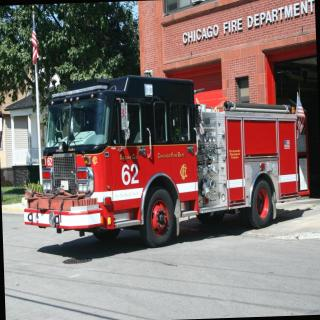Fire_truck: (18, 67, 312, 252)
